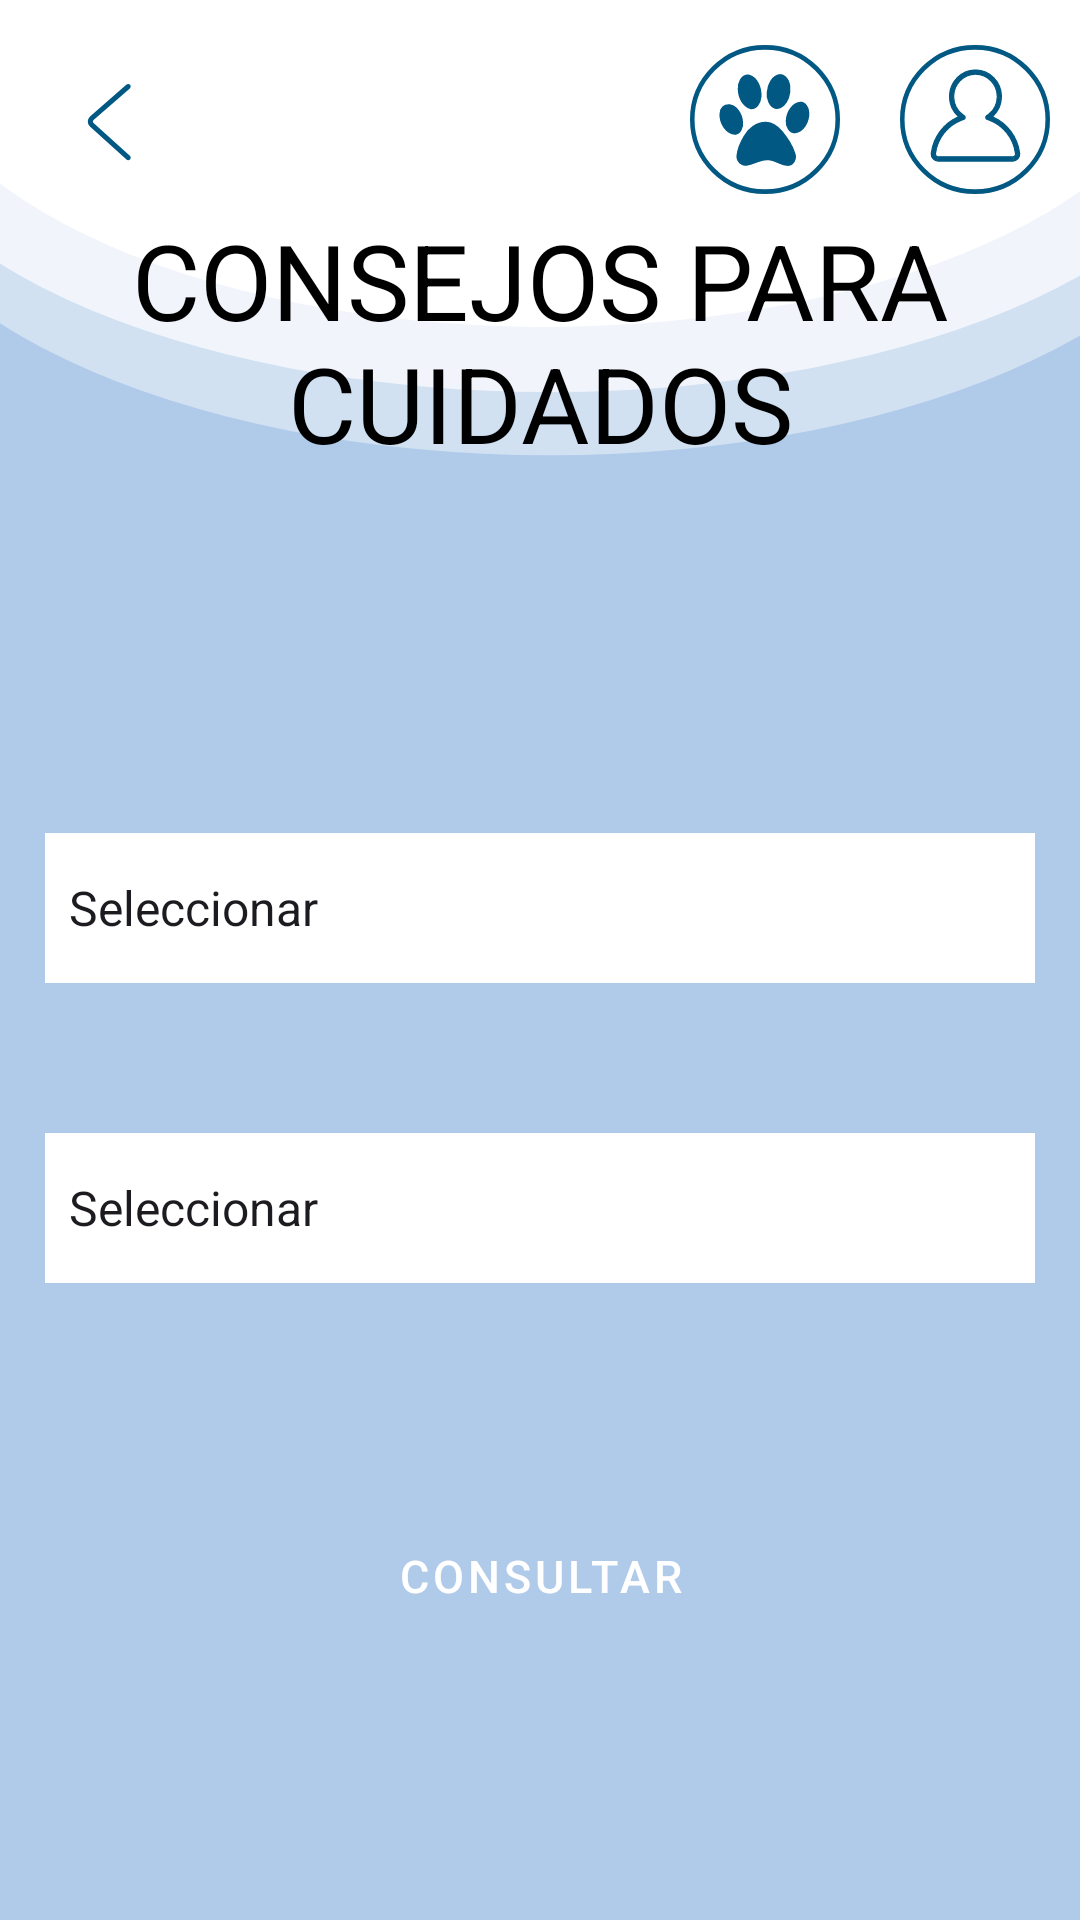

Named icons in this screenshot (1080 x 1920) and their bounding boxes, [x1, y1, x2, y2]:
back arrow: [87, 84, 131, 161]
huella: [690, 45, 840, 194]
